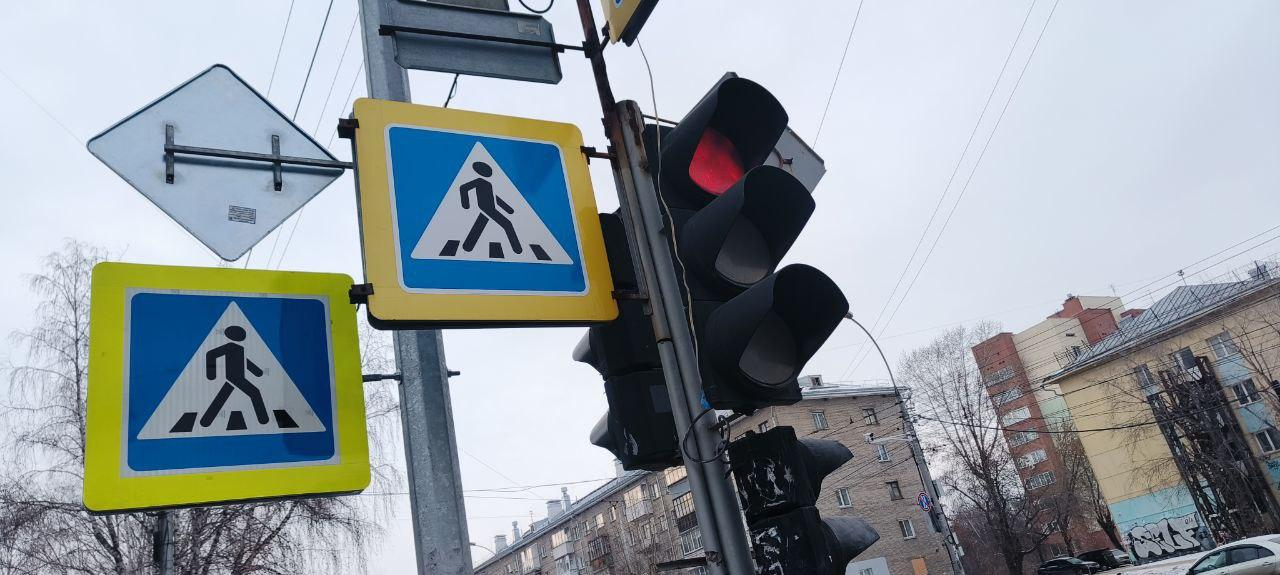off traffic light: (728, 425, 880, 575)
road_sign: (82, 262, 370, 510), (356, 98, 618, 321)
traffic light: (641, 72, 849, 410)
